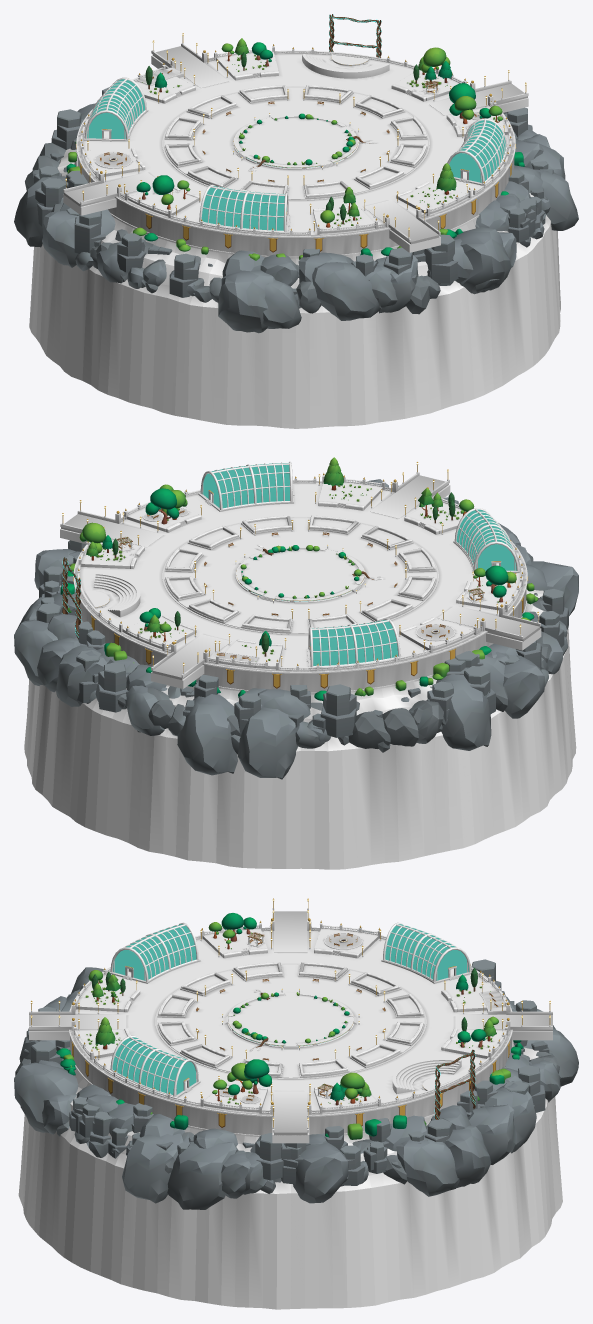
The model's file is praca-central.glb.
3 views of the same model, one above another, from view 1: azimuth 30°, elevation 25°; view 2: azimuth 150°, elevation 25°; view 3: azimuth 270°, elevation 25° (orthographic). The views are drawn at different scales.
Visible parts, largest first — view 1: paredao, piso_externo, piso_interno, muro_borda, jardim_grama, Rock_3_J_Color1.027, Rock_3_J_Color1.037, estufa_vidro_225, Rock_3_J_Color1.030, estufa_vidro_315, estufa_vidro_135, Rock_3_J_Color1.026 (+36 smaller); view 2: paredao, piso_externo, piso_interno, muro_borda, jardim_grama, Rock_3_J_Color1.025, Rock_3_J_Color1.035, Rock_3_J_Color1.036, estufa_vidro_135, estufa_vidro_315, estufa_vidro_225, Rock_3_J_Color1.026 (+39 smaller); view 3: paredao, piso_externo, piso_interno, muro_borda, jardim_grama, Rock_3_J_Color1.032, Rock_3_J_Color1.031, Rock_3_J_Color1.022, Rock_3_J_Color1.021, Rock_3_J_Color1.030, estufa_vidro_315, estufa_vidro_225 (+35 smaller).
Boxes of the visible parts, left/top/right/bottom form: paredao: left=29, top=148, right=560, bottom=428; piso_externo: left=82, top=54, right=509, bottom=235; piso_interno: left=164, top=87, right=427, bottom=199; muro_borda: left=77, top=52, right=514, bottom=256; jardim_grama: left=238, top=117, right=352, bottom=165; Rock_3_J_Color1.027: left=312, top=262, right=379, bottom=320; Rock_3_J_Color1.037: left=218, top=270, right=275, bottom=333; estufa_vidro_225: left=201, top=186, right=286, bottom=230; Rock_3_J_Color1.030: left=453, top=227, right=511, bottom=293; estufa_vidro_315: left=449, top=120, right=505, bottom=182; estufa_vidro_135: left=87, top=79, right=144, bottom=138; Rock_3_J_Color1.026: left=42, top=210, right=79, bottom=267; paredao: left=24, top=585, right=576, bottom=869; piso_externo: left=79, top=482, right=521, bottom=669; piso_interno: left=164, top=518, right=436, bottom=633; muro_borda: left=74, top=481, right=526, bottom=692; jardim_grama: left=241, top=548, right=358, bottom=598; Rock_3_J_Color1.025: left=177, top=694, right=237, bottom=775; Rock_3_J_Color1.035: left=238, top=707, right=297, bottom=779; Rock_3_J_Color1.036: left=436, top=674, right=491, bottom=750; estufa_vidro_135: left=310, top=620, right=397, bottom=665; estufa_vidro_315: left=202, top=463, right=289, bottom=508; estufa_vidro_225: left=456, top=509, right=516, bottom=570; Rock_3_J_Color1.026: left=503, top=655, right=544, bottom=718; paredao: left=18, top=1044, right=562, bottom=1309; piso_externo: left=73, top=931, right=506, bottom=1113; piso_interno: left=157, top=964, right=424, bottom=1078; muro_borda: left=69, top=929, right=512, bottom=1135; jardim_grama: left=232, top=994, right=349, bottom=1044; Rock_3_J_Color1.032: left=167, top=1142, right=238, bottom=1209; Rock_3_J_Color1.031: left=122, top=1133, right=183, bottom=1203; Rock_3_J_Color1.022: left=396, top=1137, right=459, bottom=1196; Rock_3_J_Color1.021: left=293, top=1141, right=348, bottom=1203; Rock_3_J_Color1.030: left=14, top=1062, right=78, bottom=1132; estufa_vidro_315: left=112, top=1037, right=196, bottom=1094; estufa_vidro_225: left=113, top=924, right=196, bottom=980.
Bounding box in the file's own units: 202 × 82.83 × 203.
Materials: 99 (31 with a texture image).
